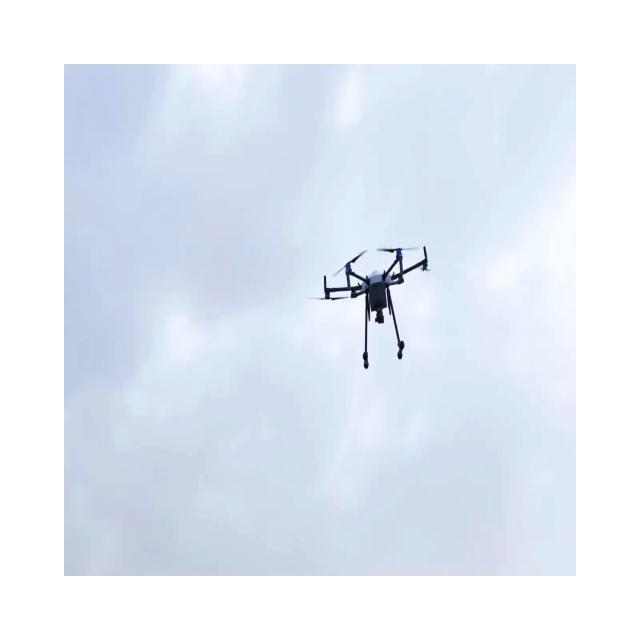drone: (306, 244, 431, 369)
